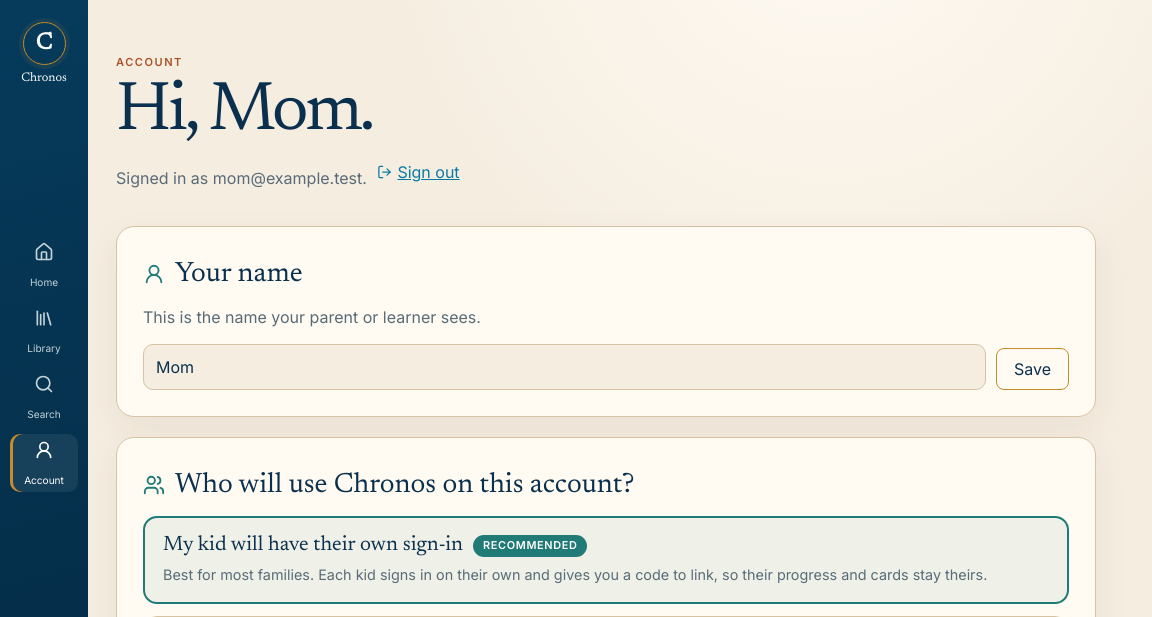
Scenario: Account setup and shared accounts › asks who will use the account and recommends separate sign-ins
expect the heading "Who will use Chronos on this account?" is shown: met, box top-left (143, 470), bottom-right (634, 498)
Click the button that starts with "My kid will have their own sign-in". click: (313, 545)
box: top-left (143, 516), bottom-right (1069, 604)
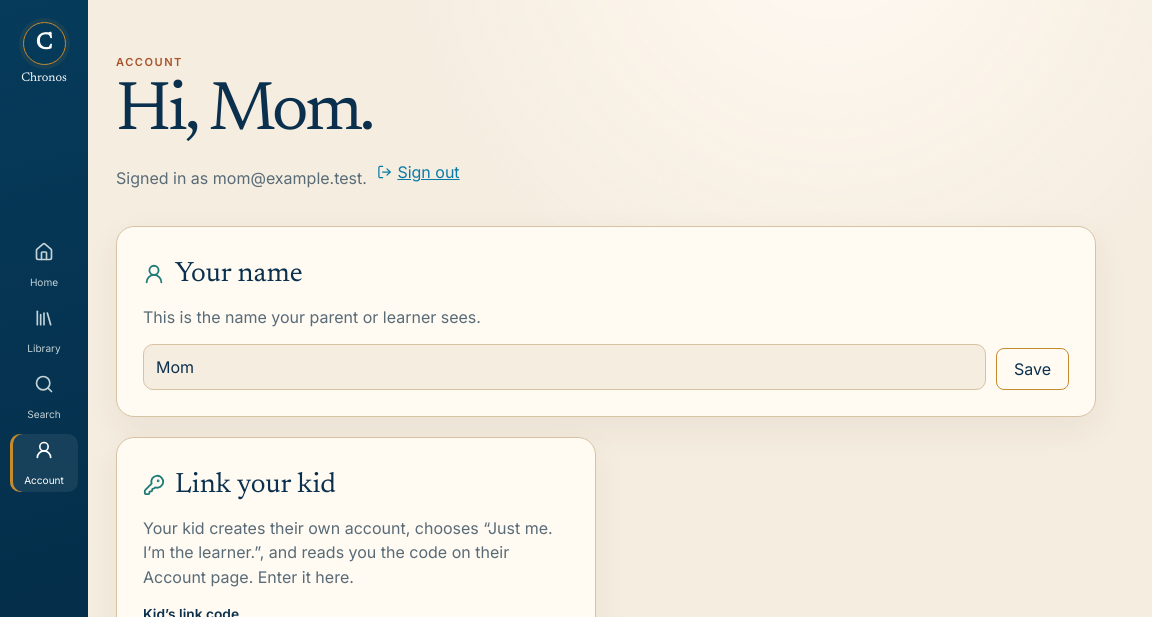
expect the heading "Link your kid" is shown: met, box top-left (143, 470), bottom-right (336, 498)
